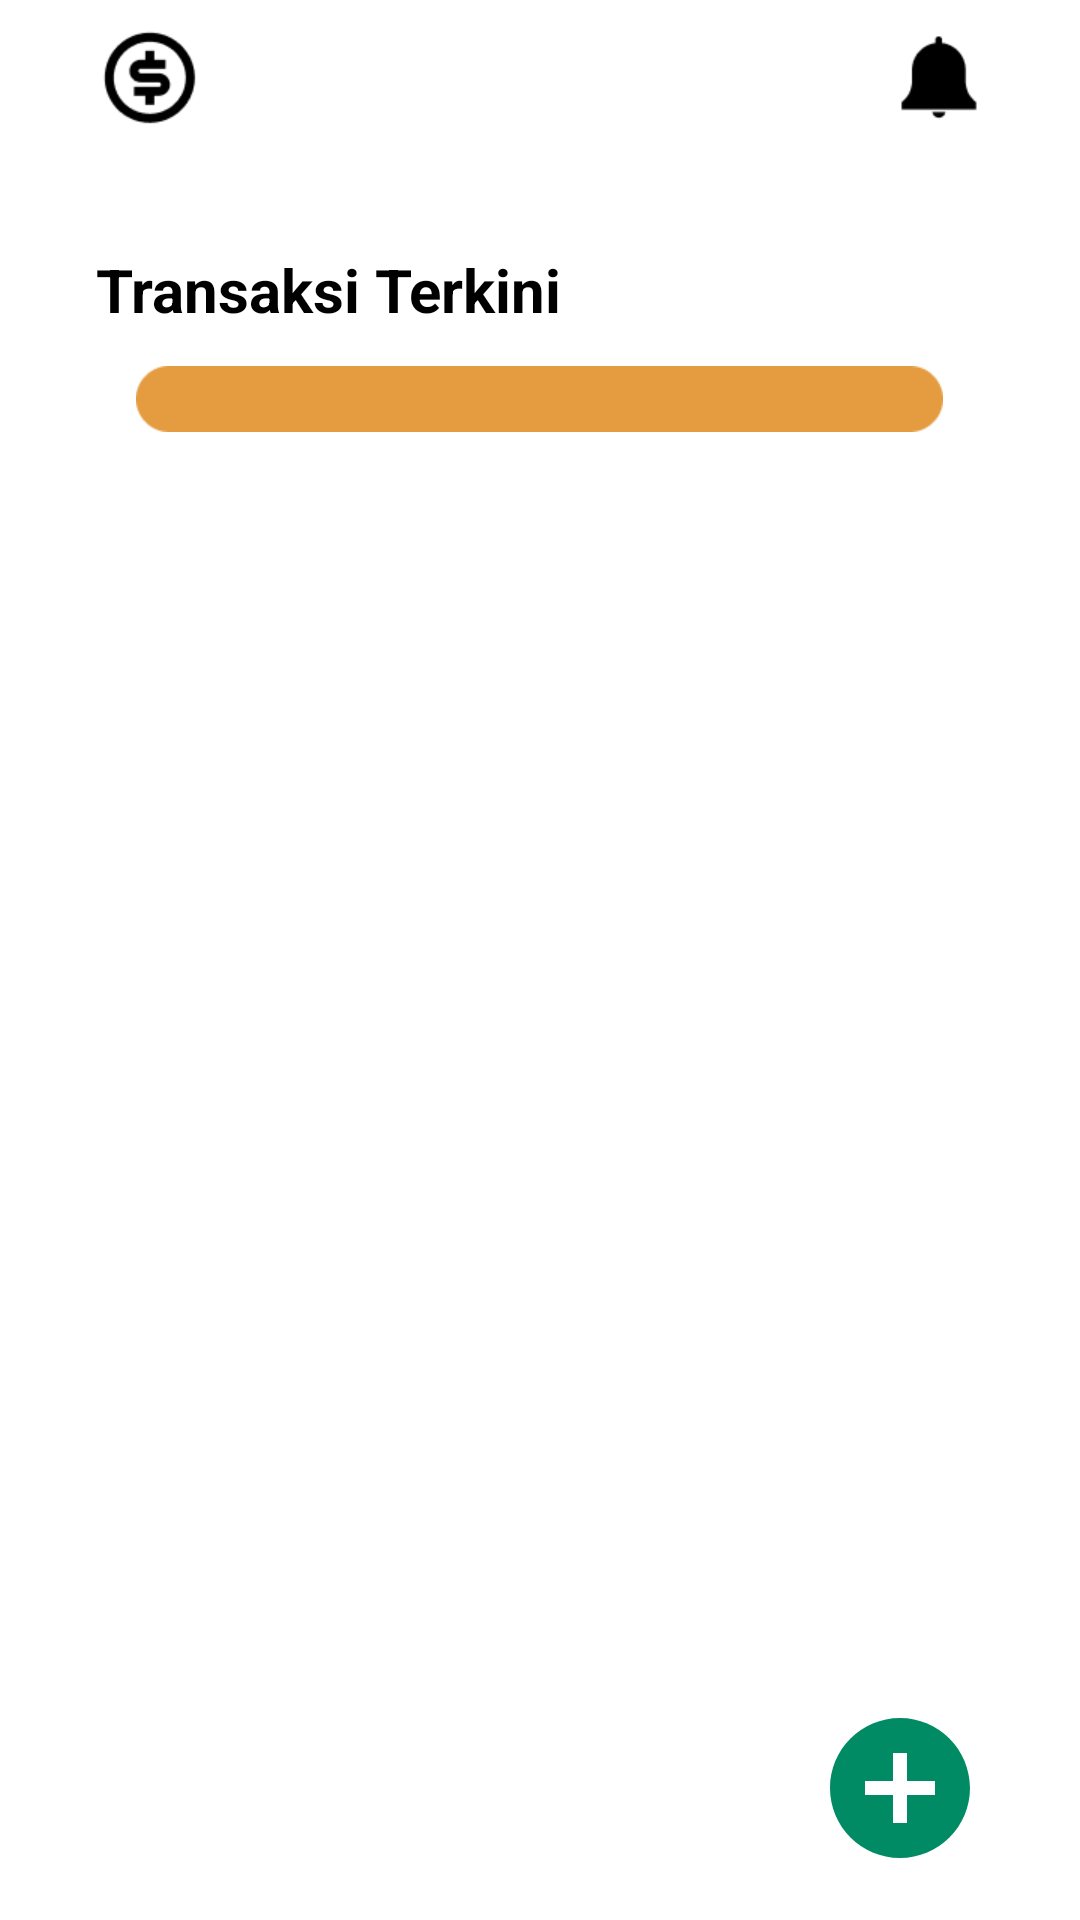

Icons on this 1080px x 1920px Android screen, each with its box as [left=x1, top=y1, right=x2, bottom=y2]:
add: [left=830, top=1718, right=970, bottom=1858]
dollar circle: [left=104, top=32, right=196, bottom=124]
notification: [left=901, top=36, right=977, bottom=119]
